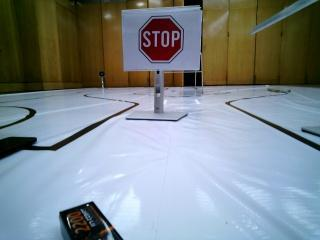stop: (124, 9, 201, 63)
